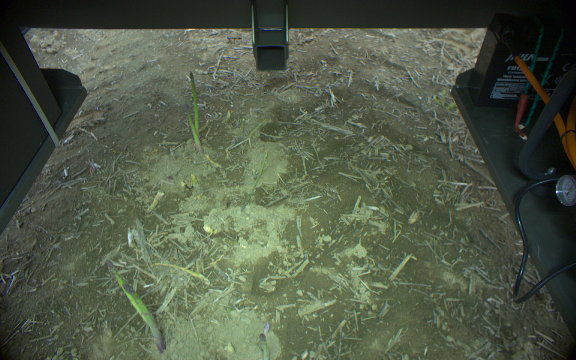aspa: (105, 262, 166, 352), (181, 103, 201, 154), (190, 69, 202, 132), (254, 332, 274, 360)
